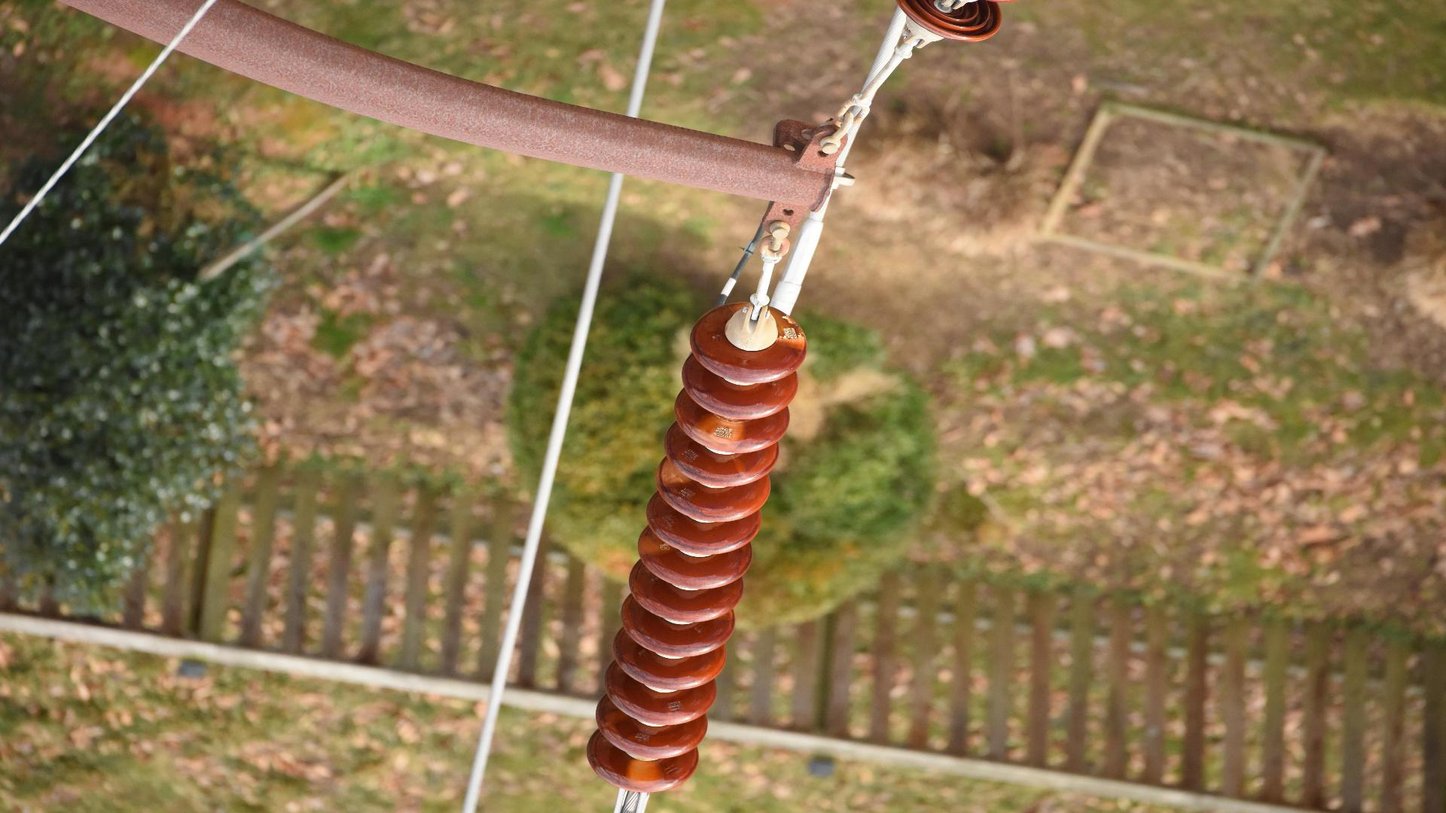insulator: (583, 297, 814, 794), (887, 1, 1008, 50)
insulator_flashover: (688, 412, 746, 455), (768, 305, 808, 355), (623, 757, 667, 793), (654, 454, 691, 489), (635, 528, 670, 558)
